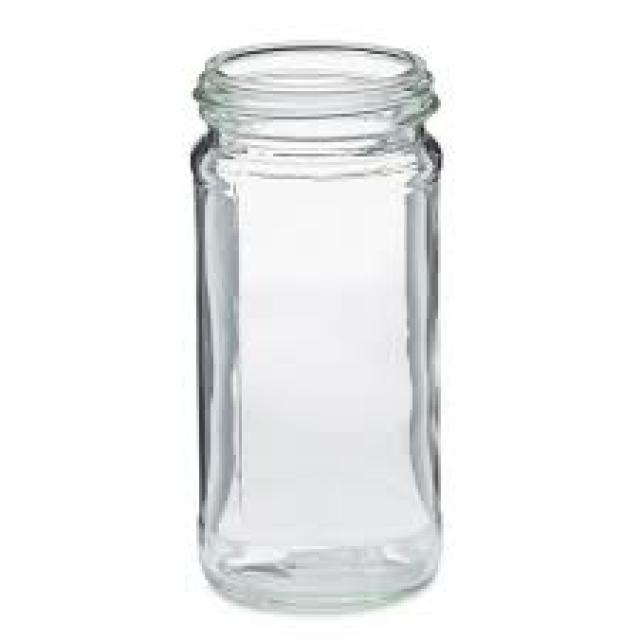glass: (188, 40, 441, 611)
